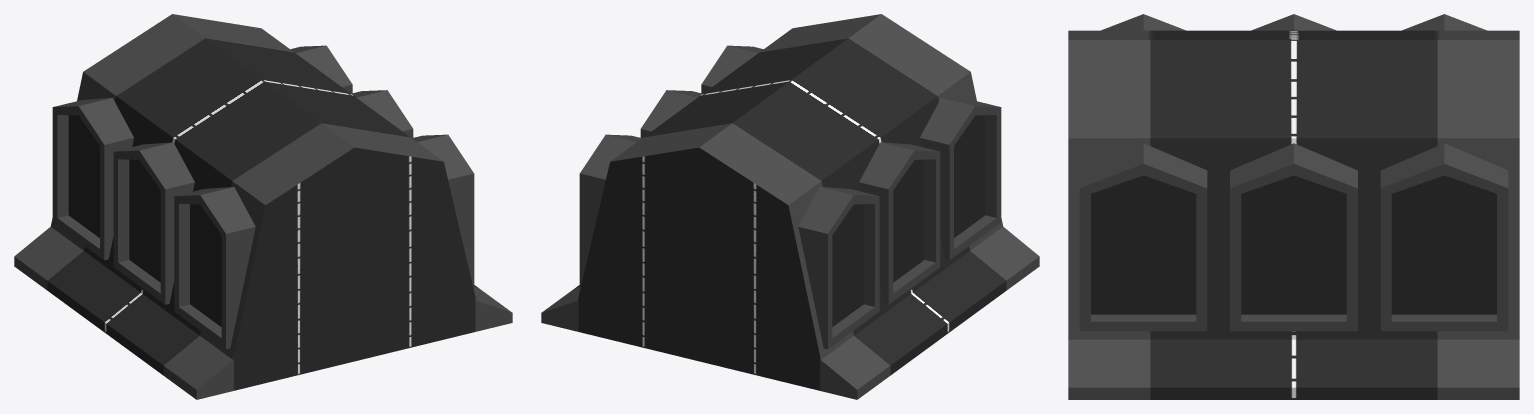
Rendered from roof1.fbx.
3 views of the same model, side by side, from view 1: azimuth 30°, elevation 25°; view 2: azimuth 150°, elevation 25°; view 3: azimuth 270°, elevation 25° (orthographic). The views are drawn at different scales.
Parts seen in each view (by area): view 1: Roof1; view 2: Roof1; view 3: Roof1.
Boxes of the visible parts, x1,y1,x2,y2 form: Roof1: [14, 14, 512, 399]; Roof1: [541, 14, 1039, 399]; Roof1: [1068, 14, 1519, 399].
Bounding box in the file's own units: 200 × 129 × 200.
